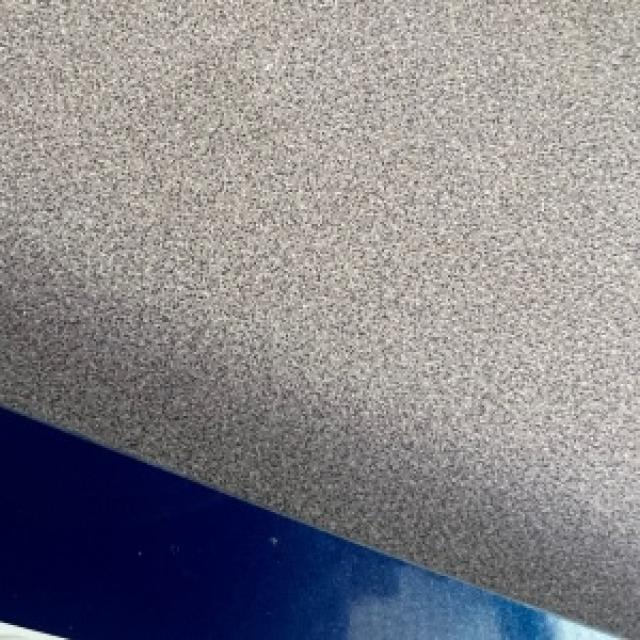healthy: (0, 0, 638, 638), (0, 407, 619, 638)
